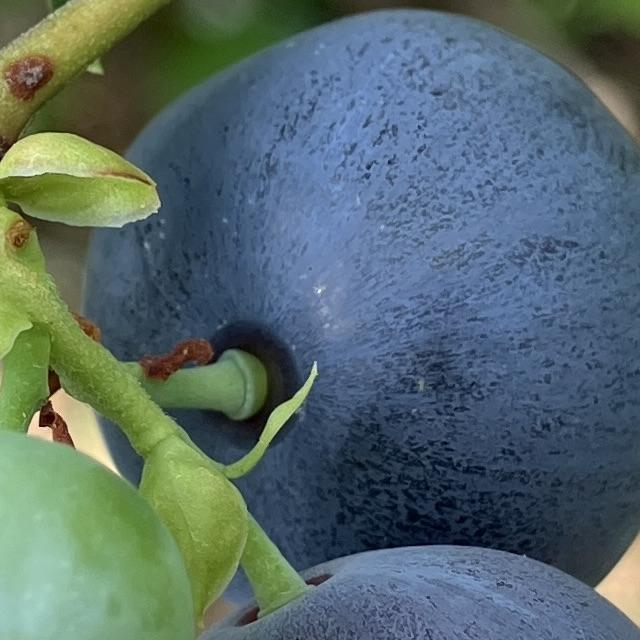Blueberries: (71, 1, 640, 593)
